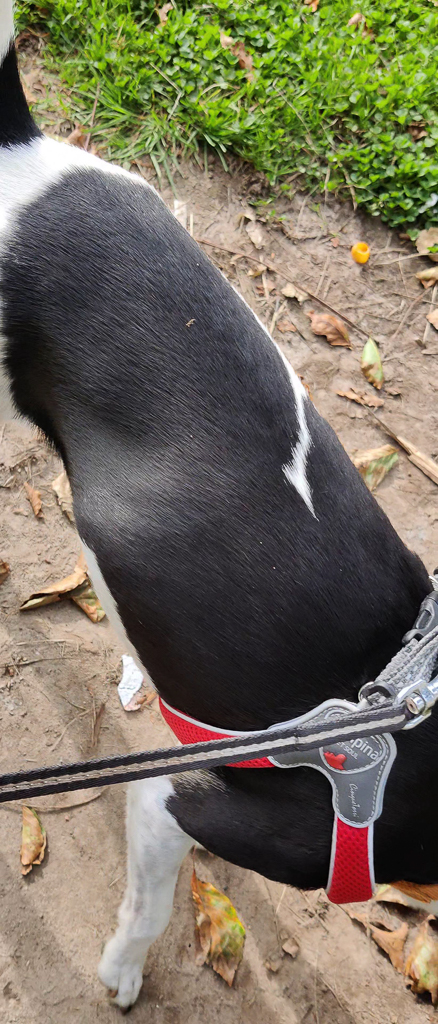Dog: (0, 0, 438, 1013)
